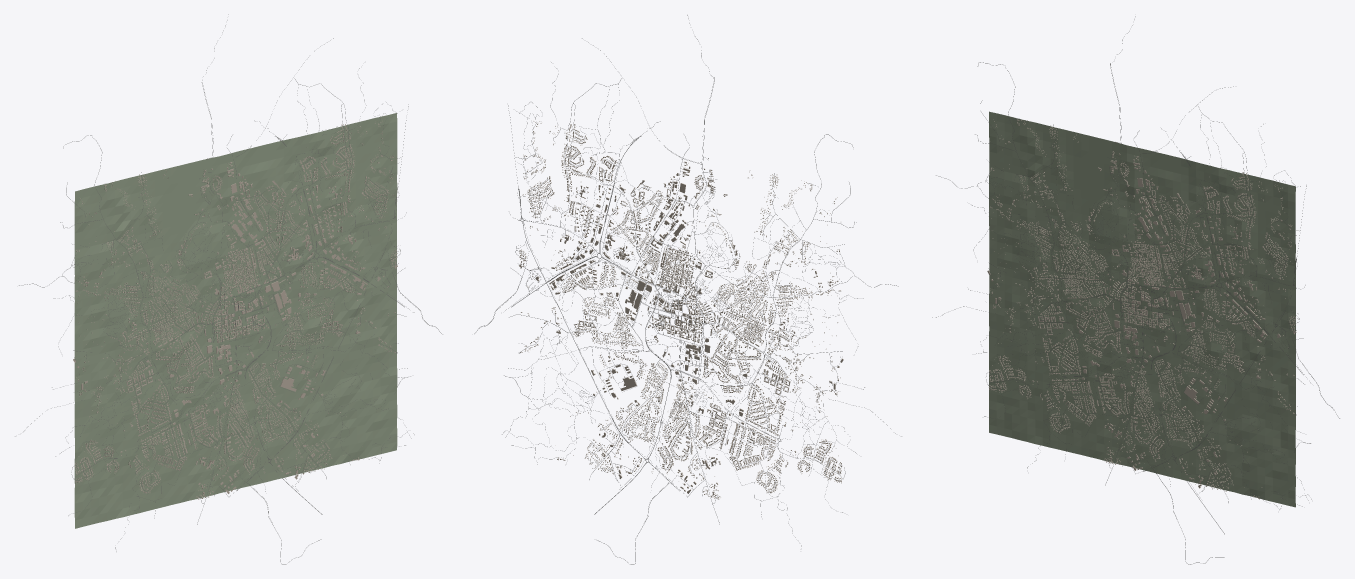
The model's file is pietarsaari_3d.glb.
3 renders of one model, left to right at view 1: azimuth 30°, elevation 25°; view 2: azimuth 150°, elevation 25°; view 3: azimuth 330°, elevation 25°, orthographic. The views are drawn at different scales.
Visible parts, largest first — view 1: terrain_real_elevation; view 2: no part large enough to name; view 3: terrain_real_elevation.
Boxes of the visible parts, x1,y1,x2,y2 form: terrain_real_elevation: (74,113,397,528); terrain_real_elevation: (989,111,1295,507).
Bounding box in the file's own units: 6666 × 8371 × 35.15.
